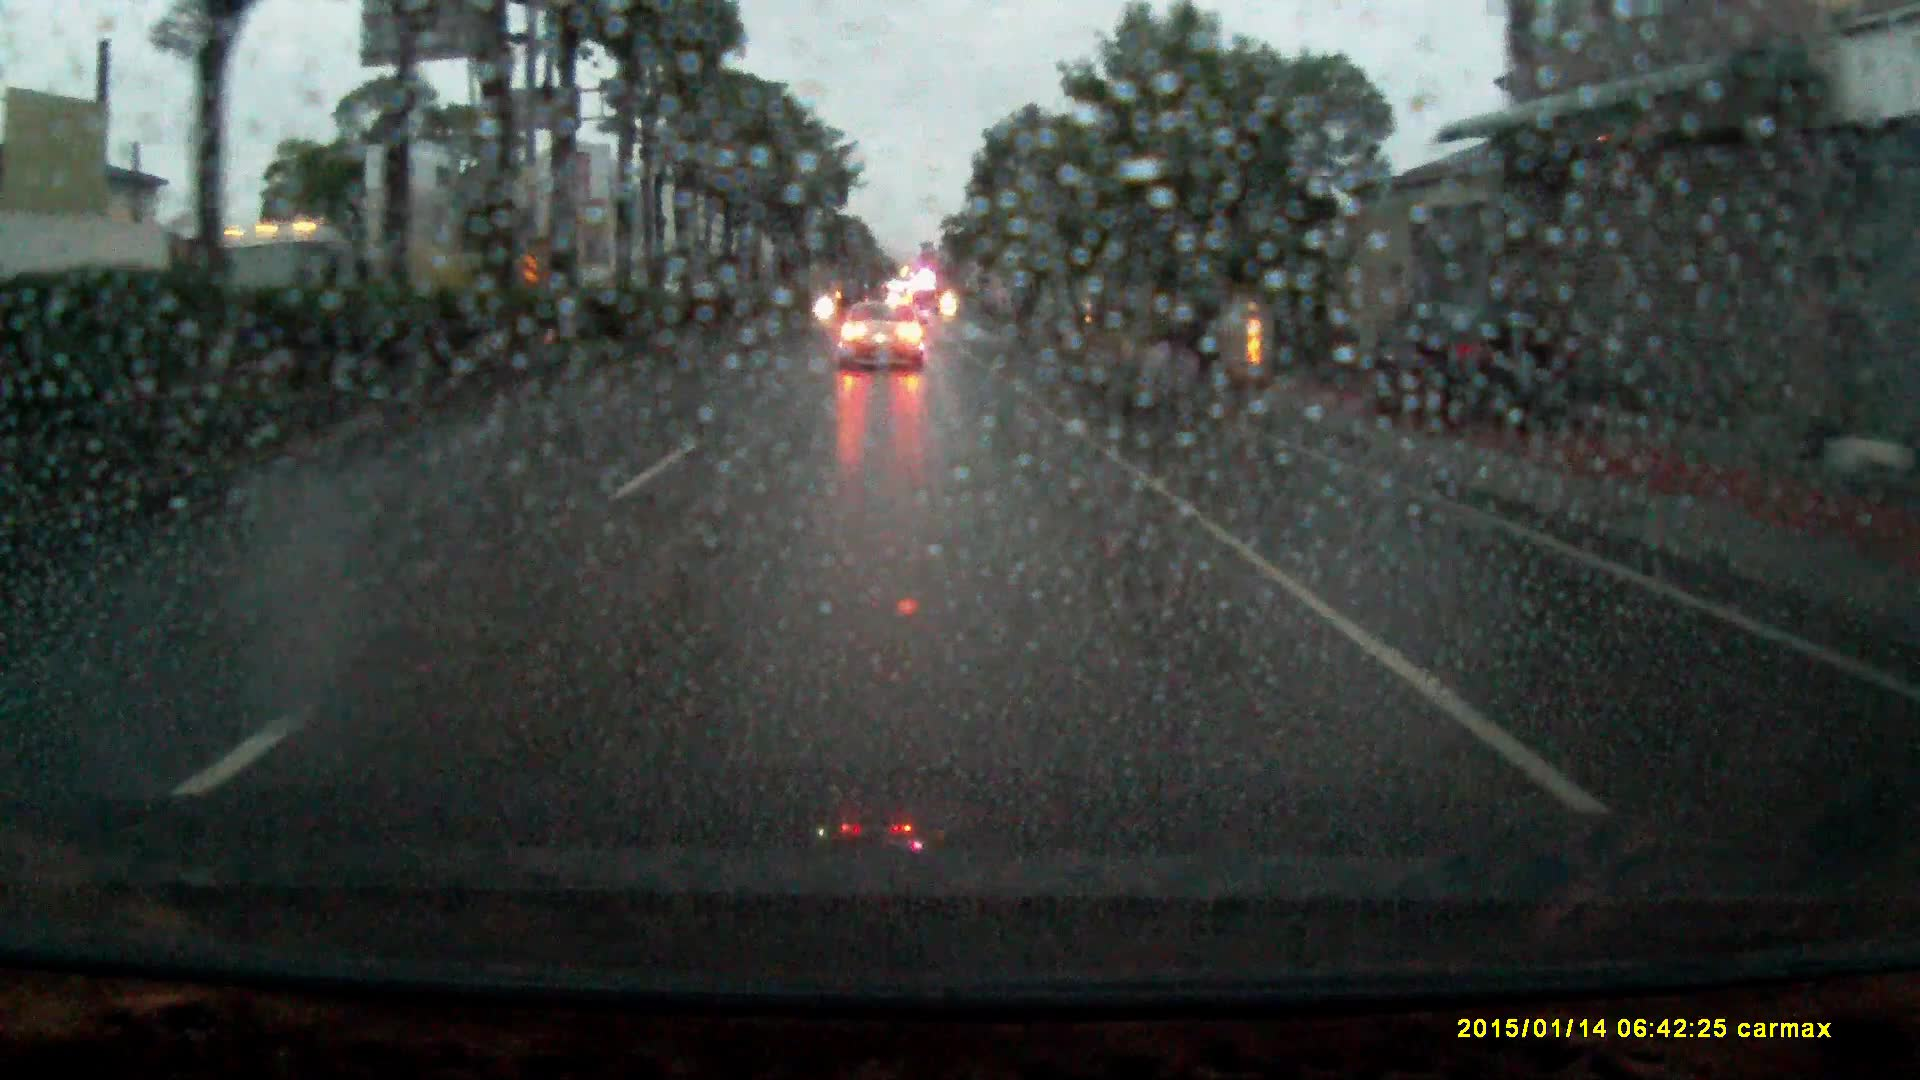vehicle: (189, 222, 469, 359), (1369, 291, 1575, 433), (836, 302, 927, 372)
